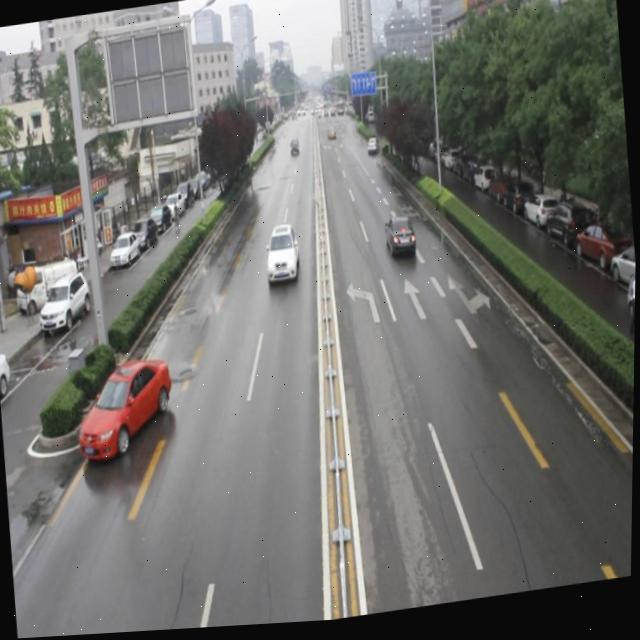car: (72, 352, 180, 463), (263, 225, 302, 288), (383, 214, 417, 261), (365, 138, 379, 158)
truck: (288, 140, 301, 160)
